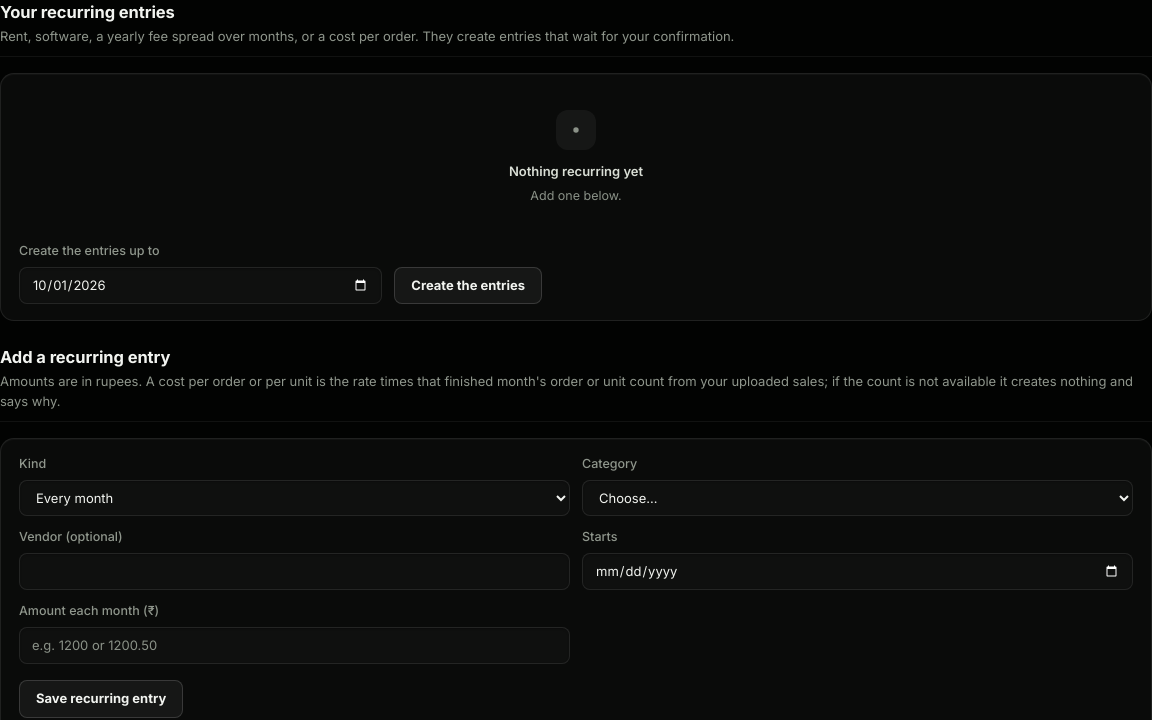
Test: recurring entries › does not send an invalid entry and names the problem
The width and height of the screenshot is (1152, 720).
Expected: the text "Nothing recurring yet" is shown, [509, 162, 643, 182]
Click the button "Save recurring entry" at {"x": 101, "y": 699}, box [19, 680, 183, 718]
(page scrolled)
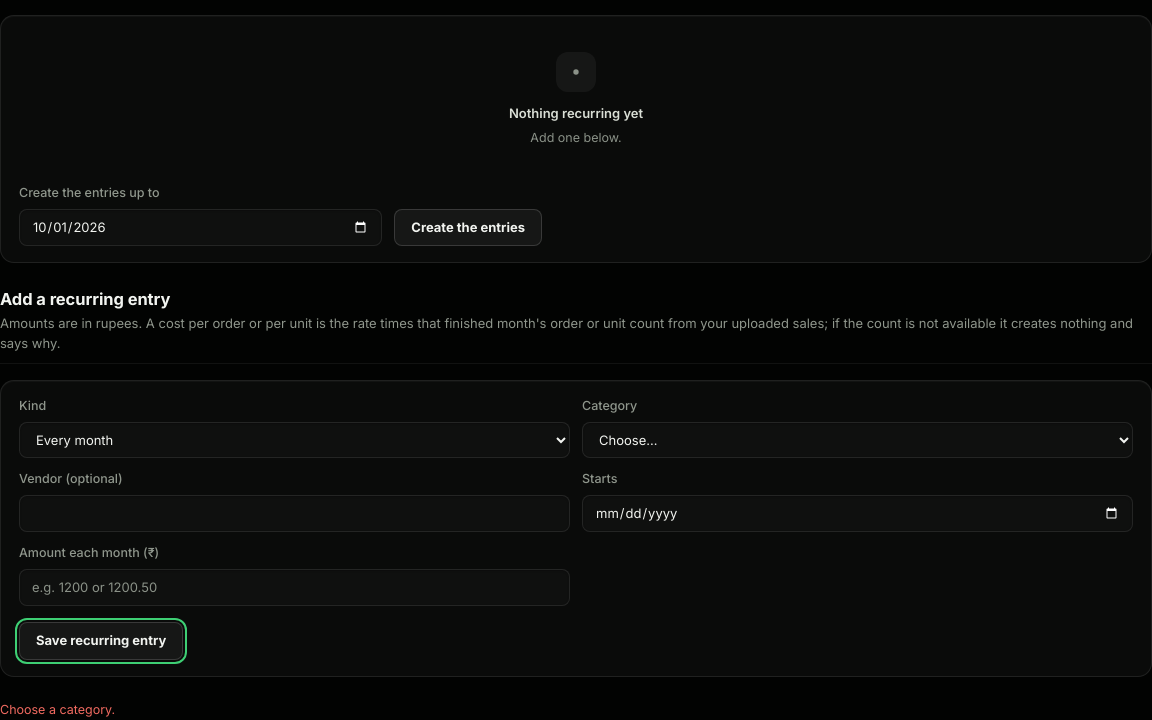
Expected: the text "Choose a category." is shown, [0, 702, 115, 717]
